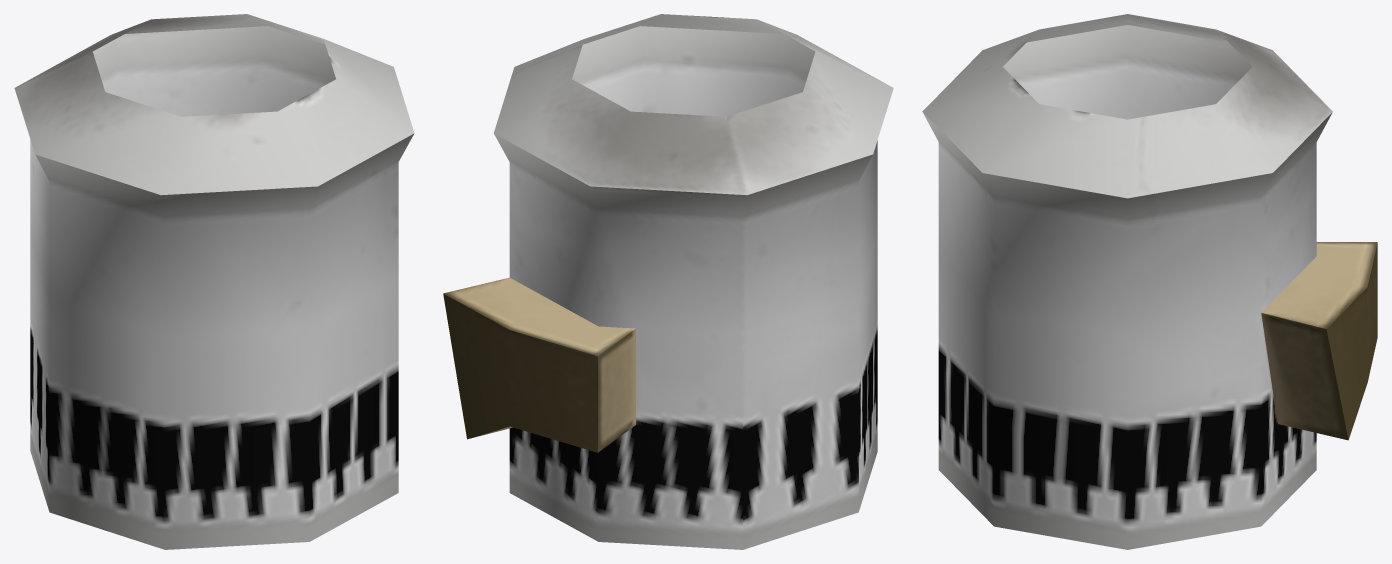
File: big_arm_link_8.dae
The picture shows the model from 3 angles, left to right: view 1: azimuth 30°, elevation 25°; view 2: azimuth 150°, elevation 25°; view 3: azimuth 270°, elevation 25°; orthographic projection.
Visible parts, largest first — view 1: Big Arm_8; view 2: Big Arm_8; view 3: Big Arm_8.
Part boxes in pixels (x1,y1,x2,y2): Big Arm_8: (14, 14, 414, 549); Big Arm_8: (443, 14, 893, 549); Big Arm_8: (922, 14, 1377, 549).
Size of the model in its own units: 0.4069 by 0.4511 by 0.4409.
Materials: 1 (1 with a texture image).
